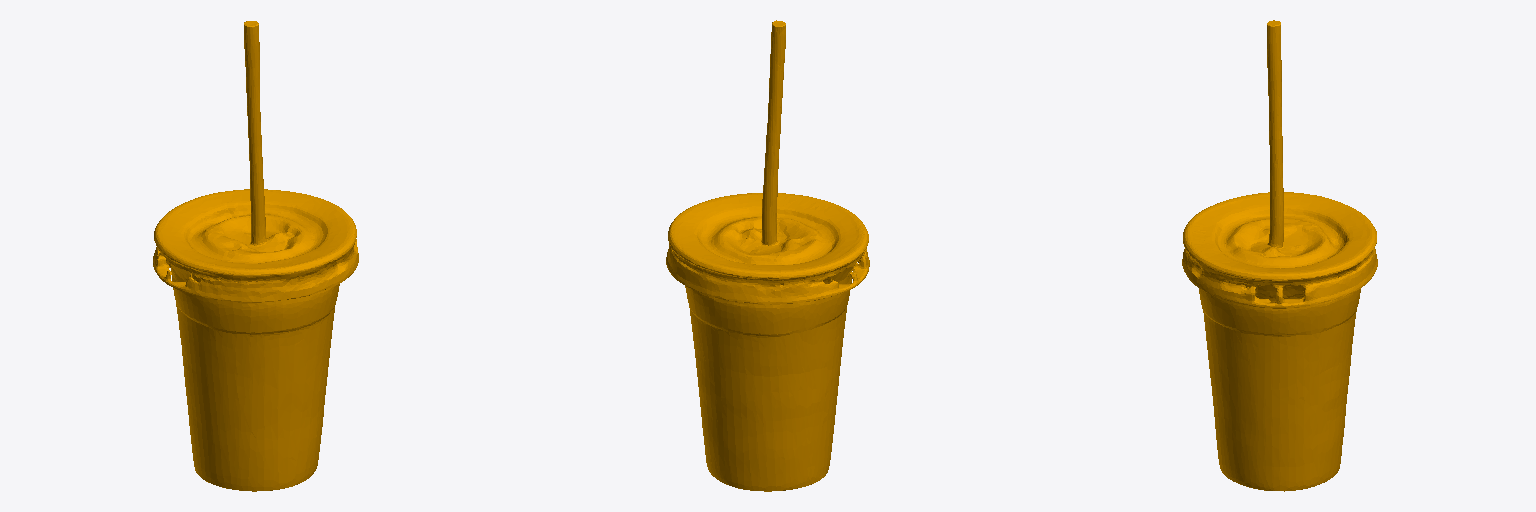
URDF robot description (sample):
<?xml version="1.0" ?>
<robot name="sample">
   <link name="sample">
      <visual>
         <origin xyz="0 0 0" rpy="1.5708 0.0 0.0"/>
         <geometry>
            <mesh filename="mesh/sample.obj" scale="1.0 1.0 1.0"/>
         </geometry>
      </visual>
      <collision>
         <origin xyz="0 0 0" rpy="1.5708 0.0 0.0"/>
         <geometry>
            <mesh filename="mesh/sample_collision.obj" scale="1.0 1.0 1.0"/>
         </geometry>
         <gazebo>
            <mu1>0.40</mu1>
            <mu2>0.35</mu2>
         </gazebo>
      </collision>
      <inertial>
         <mass value="0.2500"/>
         <origin xyz="0 0 0"/>
         <inertia ixx="1.0" ixy="0.0" ixz="0.0" iyy="1.0" iyz="0.0" izz="1.0"/>
      </inertial>
      <extra_info>
         <scale>0.135000</scale>
         <version>v0.1.7</version>
         <category>drink cup</category>
         <description>transparent plastic cup with yellow liquid and green straw</description>
         <min_height>0.12</min_height>
         <max_height>0.15</max_height>
         <real_height>0.135</real_height>
         <min_mass>0.2</min_mass>
         <max_mass>0.3</max_mass>
         <generate_time>20260228142728</generate_time>
         <gs_model>mesh/sample_gs.ply</gs_model>
      </extra_info>
   </link>
   <custom_data>
      <quality>
         <MeshGeoChecker>YES</MeshGeoChecker>
         <ImageSegChecker>NO, object is not clearly extracted; background artifacts and incomplete segmentation present.</ImageSegChecker>
         <ImageAestheticChecker>3.980465888977051</ImageAestheticChecker>
         <overall>NO</overall>
      </quality>
   </custom_data>
</robot>

--- Render facts (derived) ---
3 views of the same robot in one strip: view 1: azimuth 30°, elevation 25°; view 2: azimuth 150°, elevation 25°; view 3: azimuth 270°, elevation 25° (orthographic).
Model sample with 1 links and 0 joints (none), rooted at sample, posed all joints at 0.
Visible links, largest first — view 1: sample; view 2: sample; view 3: sample.
Boxes of the visible links, x1,y1,x2,y2 form: sample: (153,21,358,491); sample: (666,20,869,491); sample: (1182,20,1377,491).
Bounding box of the posed robot: 0.0576 × 0.0545 × 0.135 m (x, y, z).
Meshes: 1 distinct files referenced, 1 mesh visuals loaded (1 OBJ).
